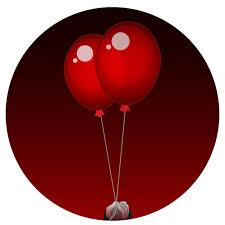red: (96, 21, 161, 106), (64, 32, 117, 109)
